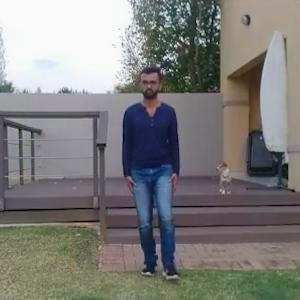follow: (122, 62, 184, 292)
